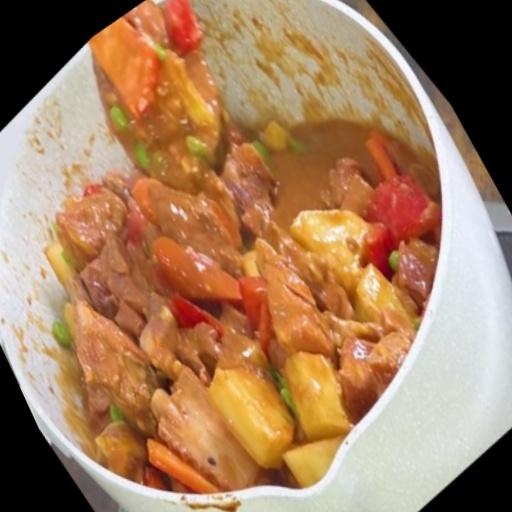pork caldereta: (61, 15, 448, 493)
